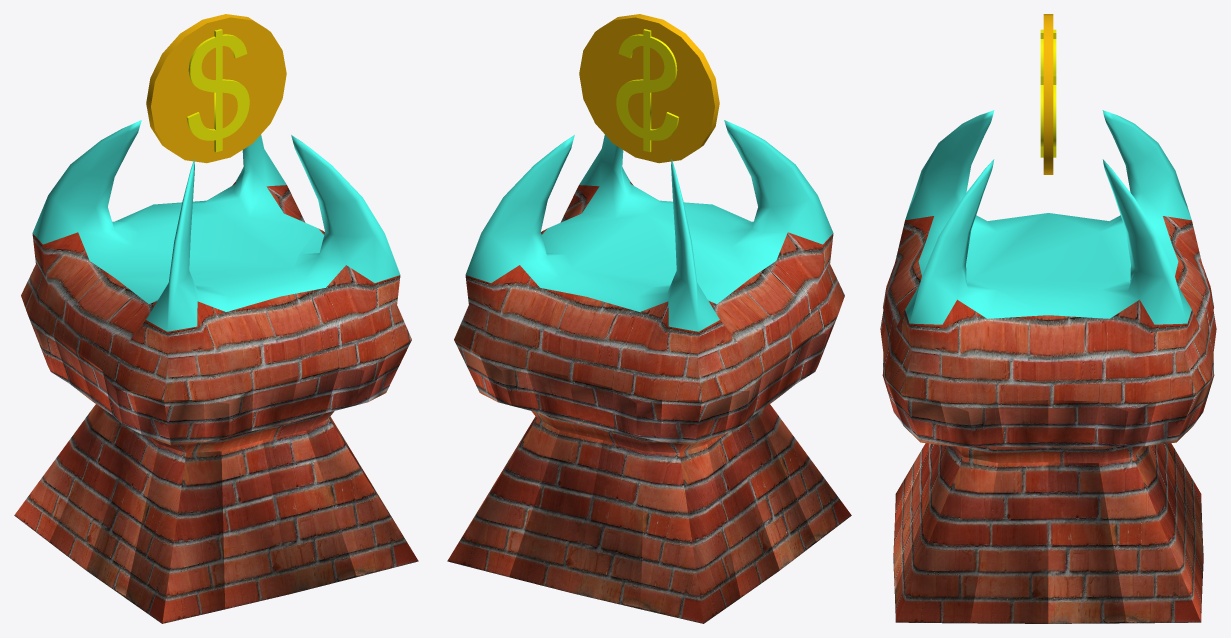
File: 資源塔.FBX
The picture shows the model from 3 angles, left to right: view 1: azimuth 30°, elevation 25°; view 2: azimuth 150°, elevation 25°; view 3: azimuth 270°, elevation 25°; orthographic projection. The views are drawn at different scales.
Parts seen in each view (by area): view 1: 輔助塔下, Money; view 2: 輔助塔下, Money; view 3: 輔助塔下, Money.
Part boxes in pixels (x1,y1,x2,y2): 輔助塔下: (14,120,418,623); Money: (146,14,286,163); 輔助塔下: (447,120,851,623); Money: (579,14,719,163); 輔助塔下: (880,110,1216,623); Money: (1040,14,1056,174).
Bounding box in the file's own units: 46.16 × 81.22 × 46.17.
4 materials, 1 textured.
